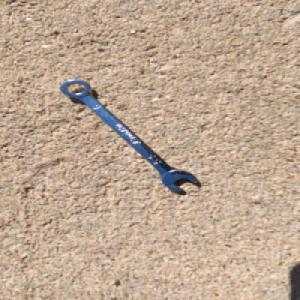Wrench: (59, 78, 202, 195)
